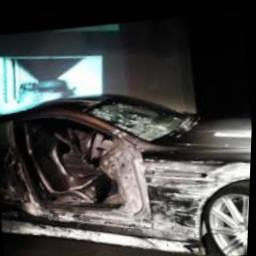Door: (12, 113, 151, 234)
Fender: (148, 142, 252, 241)
Windshield: (86, 93, 189, 139)
